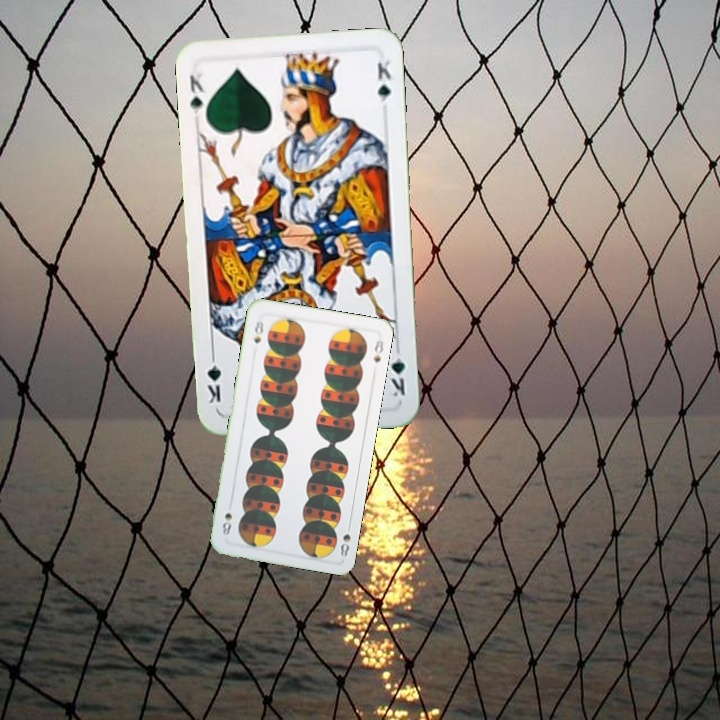GK: (384, 342, 408, 399), (186, 70, 207, 116)
S8: (336, 519, 354, 559), (250, 316, 266, 346)
